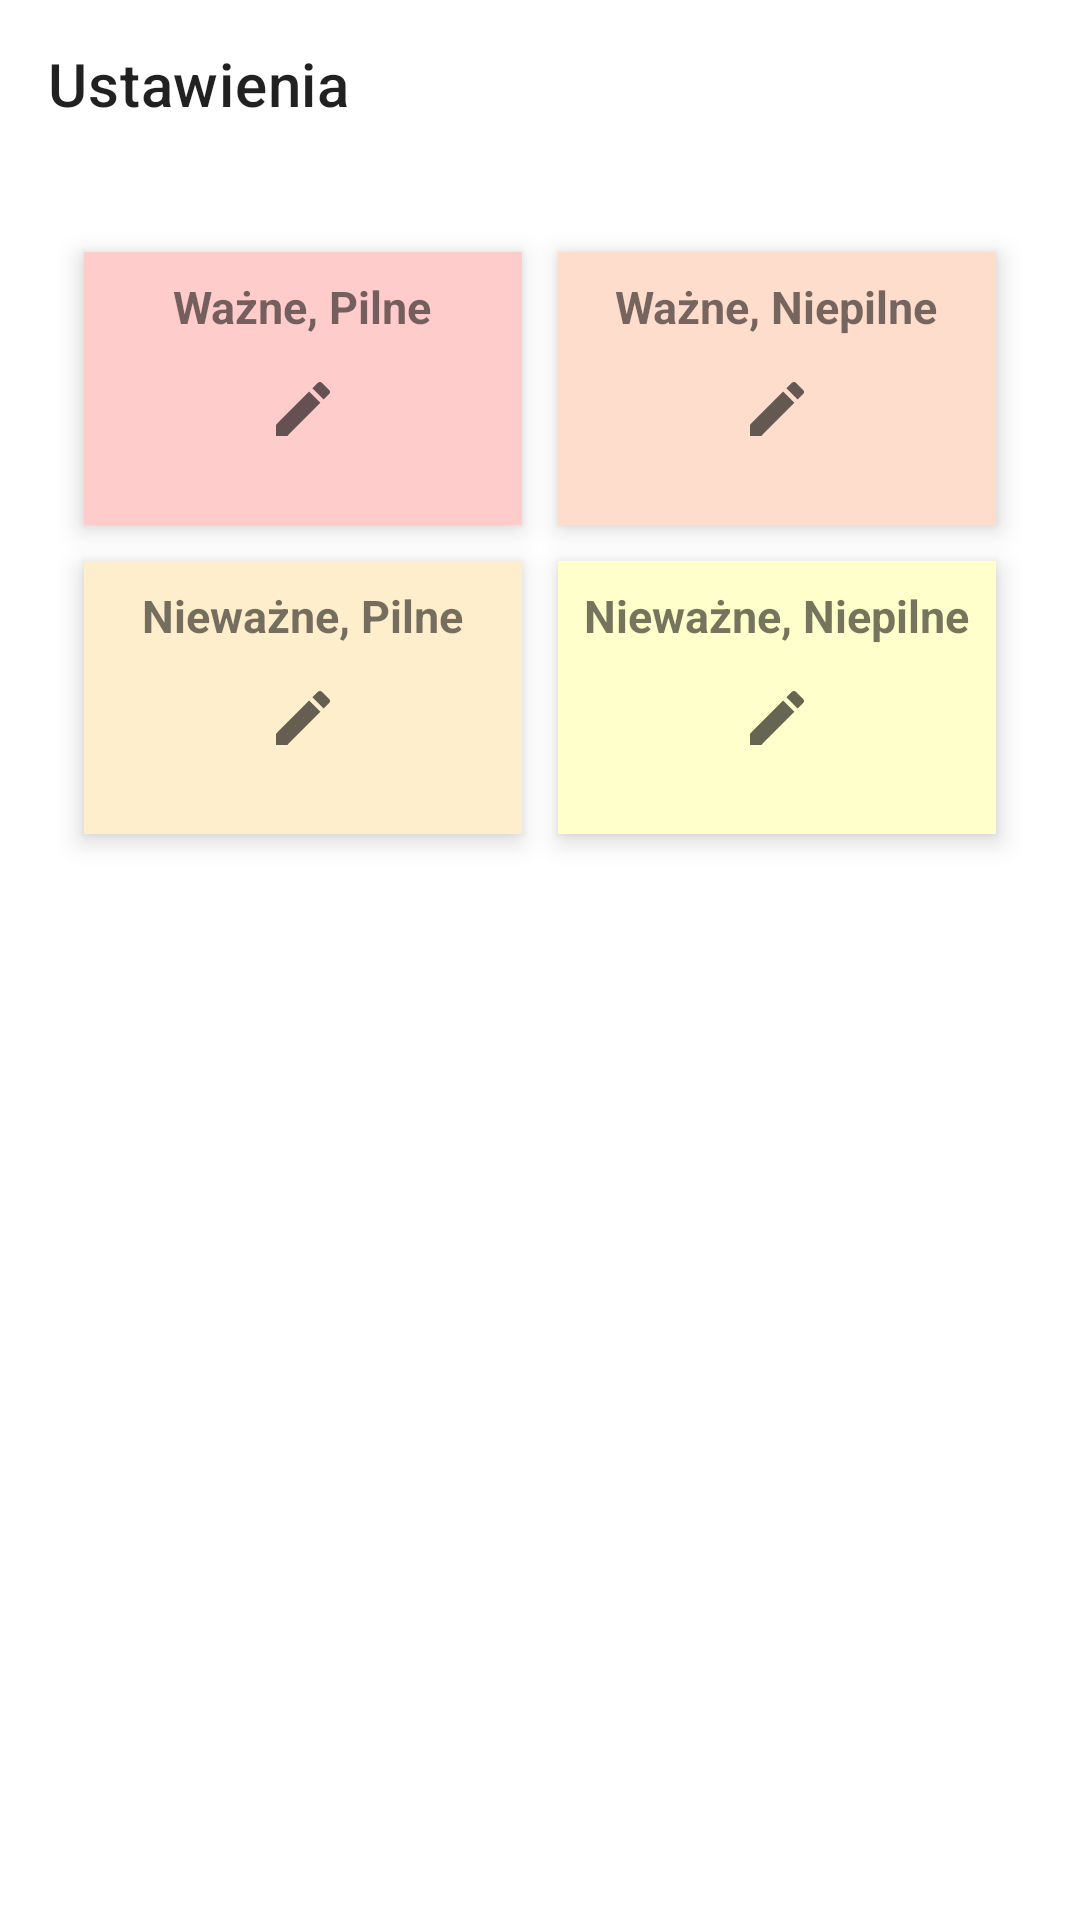

Point at icon controls on the screen. Image size 1080px×1920px, points as (x=x, y=y).
edit: (x=303, y=409), (x=777, y=409), (x=303, y=718), (x=777, y=718)
